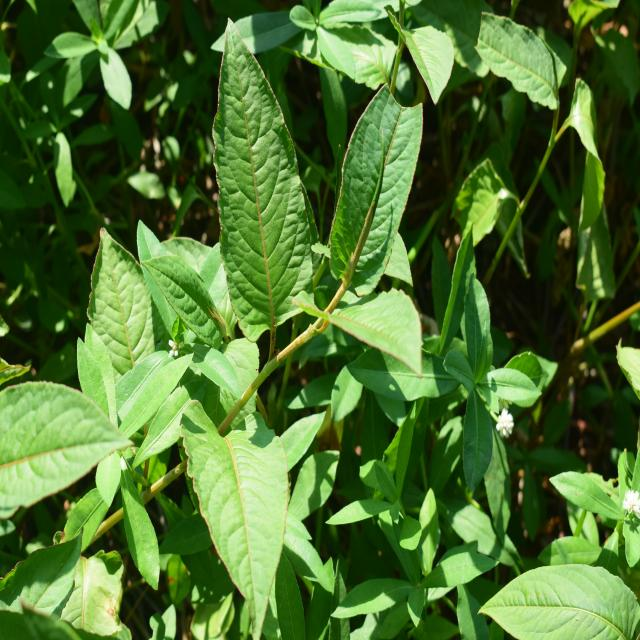Chinese_knotweed: (213, 29, 430, 385), (180, 386, 300, 627)
